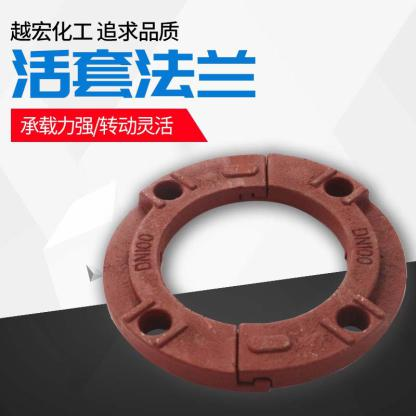FOD: (98, 146, 413, 396)
